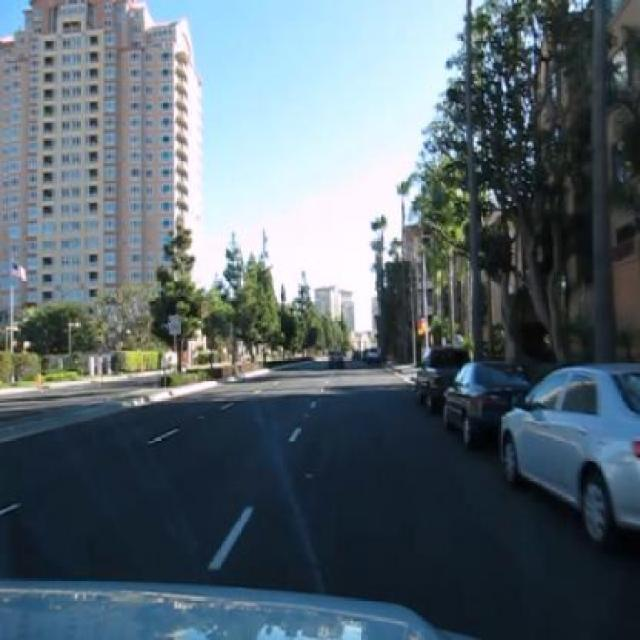speedLimit35: (168, 317, 180, 335)
